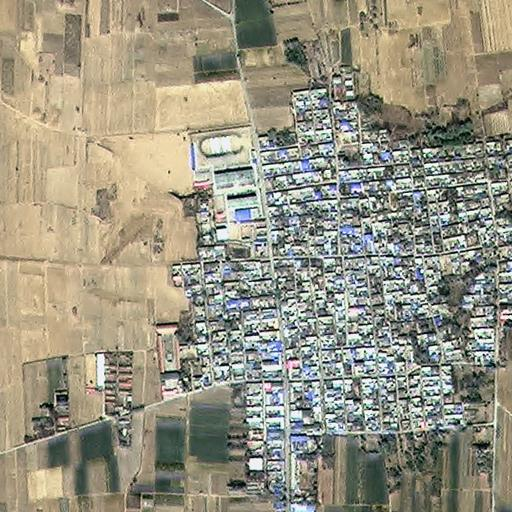school: (192, 128, 262, 220)
